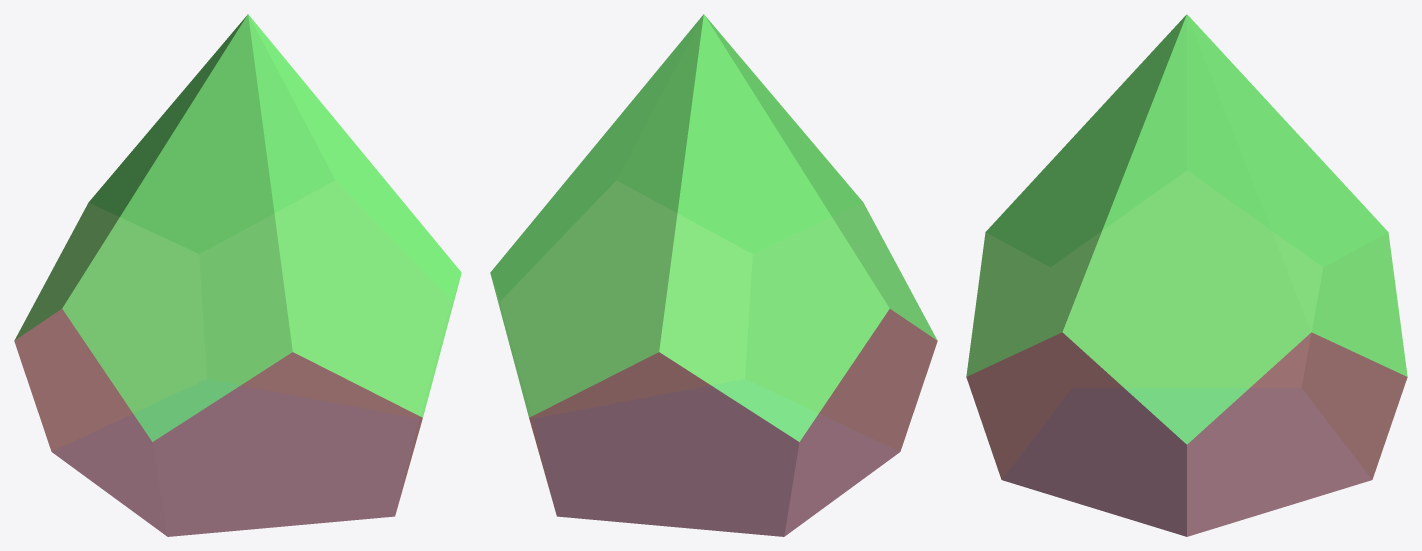
File: pipa5p.obj
3 views of the same model, side by side, from view 1: azimuth 30°, elevation 25°; view 2: azimuth 150°, elevation 25°; view 3: azimuth 270°, elevation 25° (orthographic).
Bounding box in the file's own units: 2.28 × 2.49 × 2.26.
